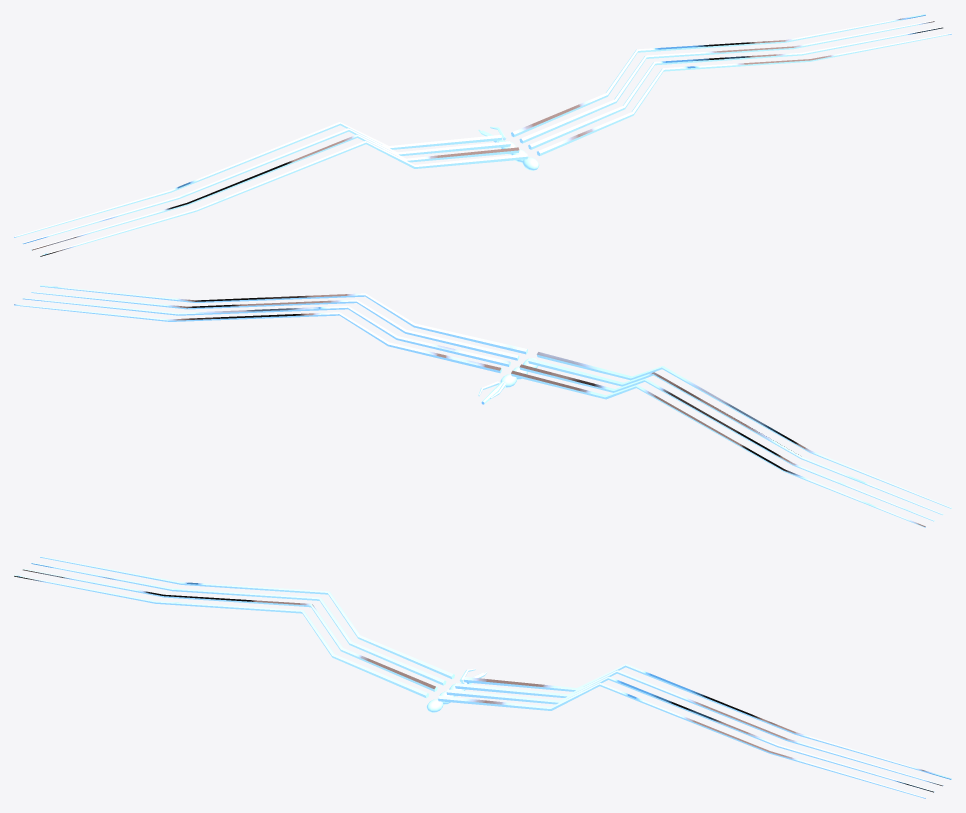
The model's file is colossendeis_sea_spider.glb.
3 renders of one model, top to bottom at view 1: azimuth 30°, elevation 25°; view 2: azimuth 150°, elevation 25°; view 3: azimuth 330°, elevation 25°, orthographic.
Visible parts, largest first — view 1: colossendeis_sea_spider; view 2: colossendeis_sea_spider; view 3: colossendeis_sea_spider.
Part boxes in pixels (x1=…): colossendeis_sea_spider: x1=14, y1=14, x2=951, y2=256; colossendeis_sea_spider: x1=14, y1=285, x2=951, y2=527; colossendeis_sea_spider: x1=14, y1=556, x2=951, y2=798.
Size of the model in its own units: 0.3708 by 0.0212 by 0.0469.
Materials: 1 (1 with a texture image).
